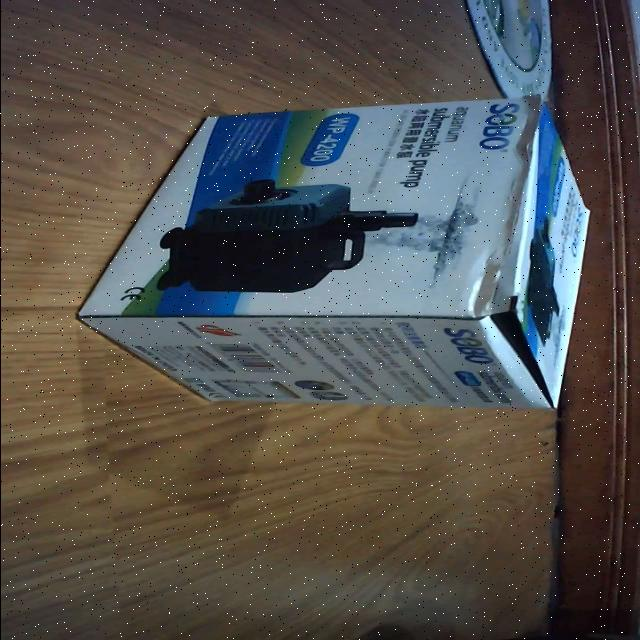SOBO_WP_4200: (73, 95, 595, 402)
